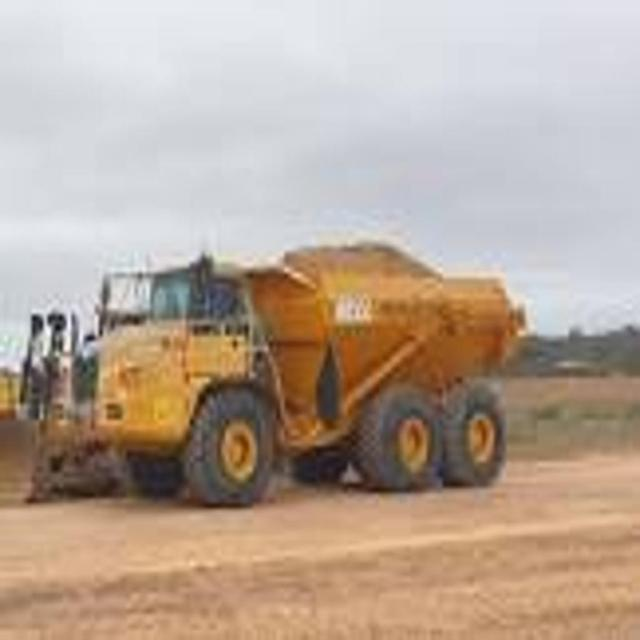dump_truck: (19, 217, 534, 513)
